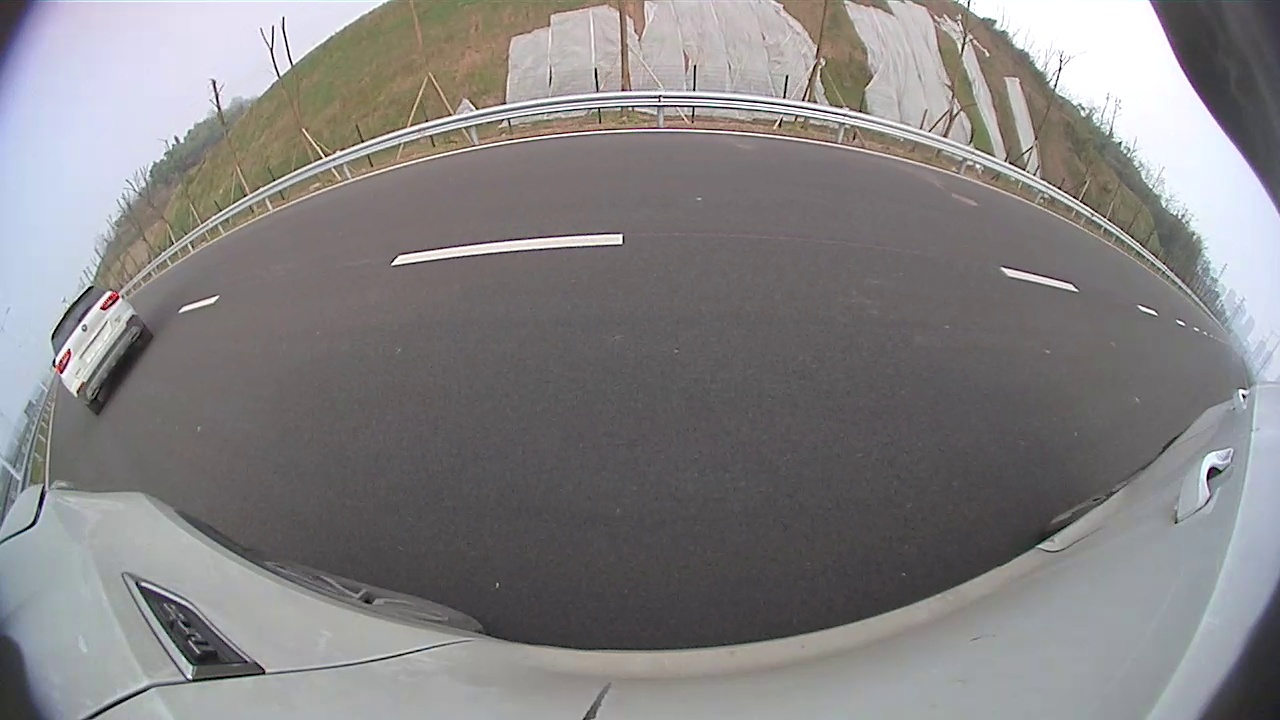car: (385, 119, 575, 250)
front: (557, 175, 574, 211)
rear: (506, 183, 533, 236)
